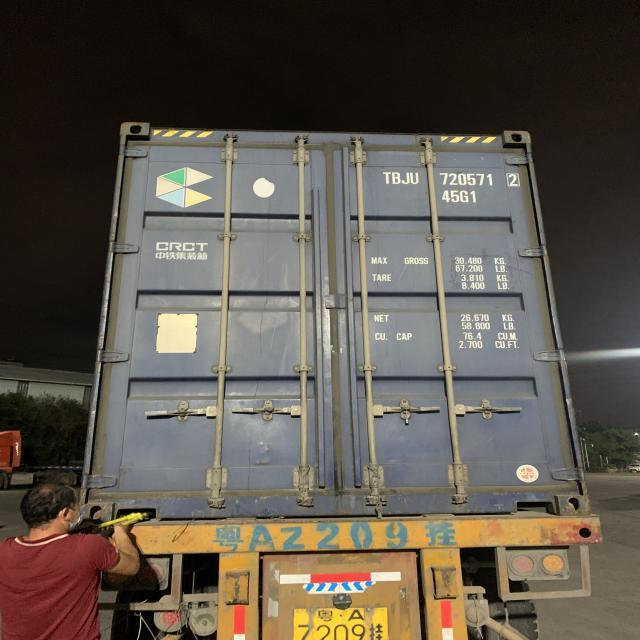ISO: (440, 188, 478, 206)
container_number: (385, 169, 524, 189)
